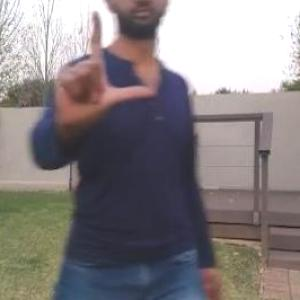land_hand: (52, 7, 161, 135)
